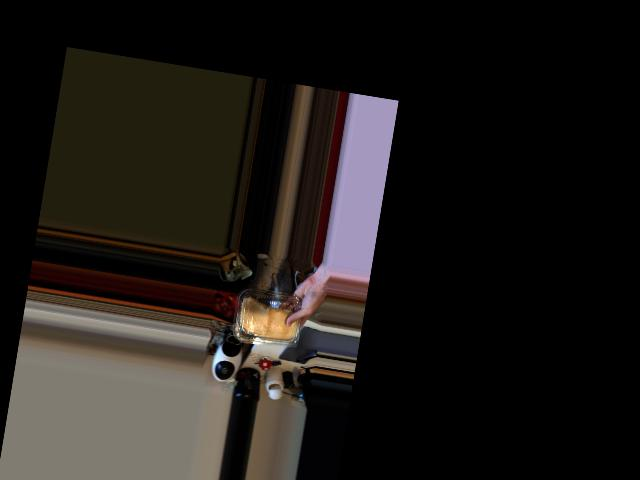cheese: (234, 283, 304, 356)
